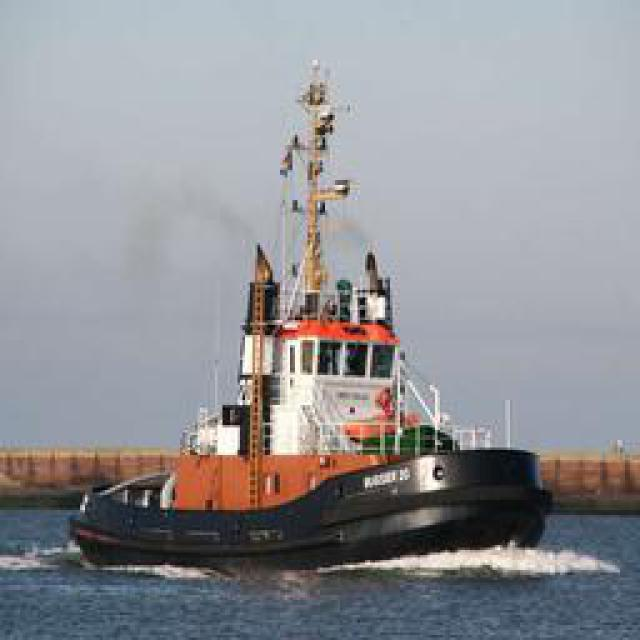Ship: (67, 75, 544, 580)
